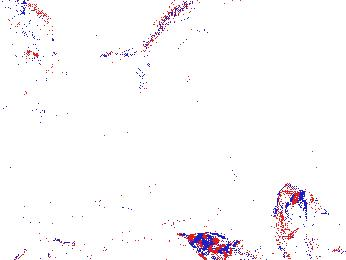X-ray fish: (275, 183, 329, 260)
glassfish: (109, 1, 247, 76), (186, 230, 265, 260)
siberian prawn: (3, 1, 58, 111), (18, 206, 173, 245)
